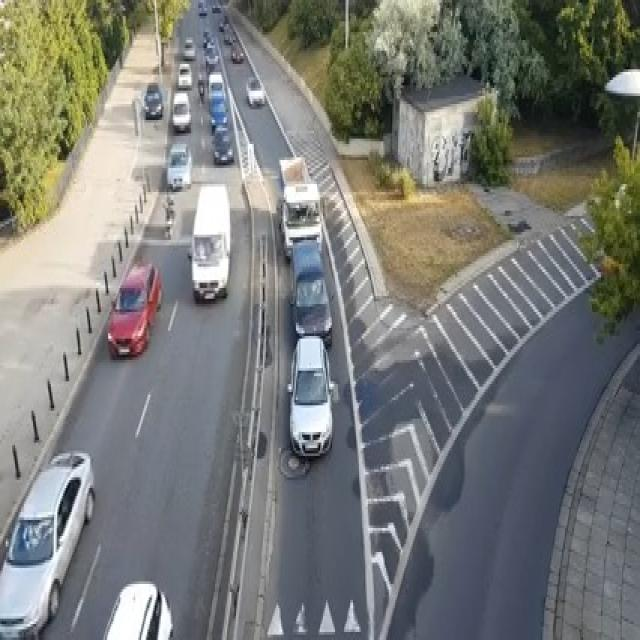bus: (188, 182, 230, 302)
car: (0, 448, 95, 637), (287, 333, 333, 459), (107, 259, 162, 357), (288, 240, 332, 344), (99, 579, 173, 637), (280, 181, 322, 259), (165, 142, 192, 190), (212, 125, 234, 163), (171, 90, 191, 130), (141, 83, 162, 117), (208, 70, 225, 110), (245, 75, 264, 106), (210, 102, 228, 134), (178, 61, 192, 88), (204, 46, 218, 70), (182, 34, 195, 59), (232, 46, 244, 61), (203, 30, 212, 46), (196, 0, 207, 13), (218, 16, 228, 29), (210, 3, 221, 13)
